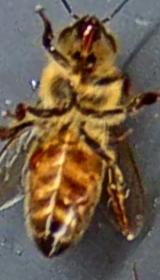varroa_mite: (23, 134, 51, 182)
